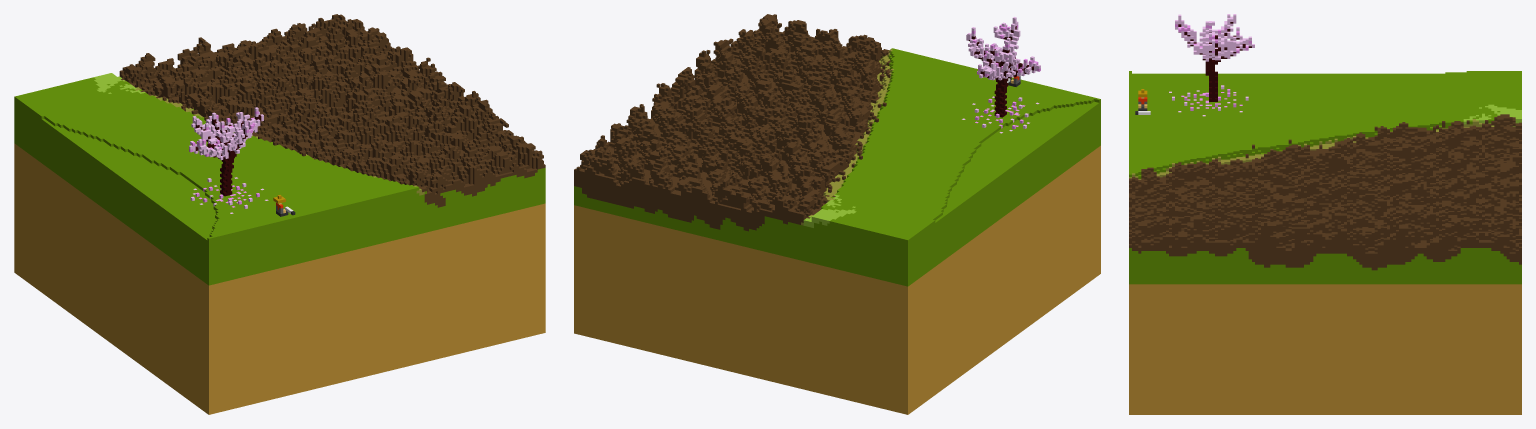
3 renders of one model, left to right at view 1: azimuth 30°, elevation 25°; view 2: azimuth 150°, elevation 25°; view 3: azimuth 270°, elevation 25°, orthographic.
Visible parts, largest first — view 1: 1F.001; view 2: 1F.001; view 3: 1F.001.
Part boxes in pixels (x1,y1,x2,y2): 1F.001: (14, 14, 545, 414); 1F.001: (574, 14, 1100, 414); 1F.001: (1129, 14, 1521, 414).
Size of the model in its own units: 12.8 by 9.5 by 12.8.
1 material, 1 textured.
